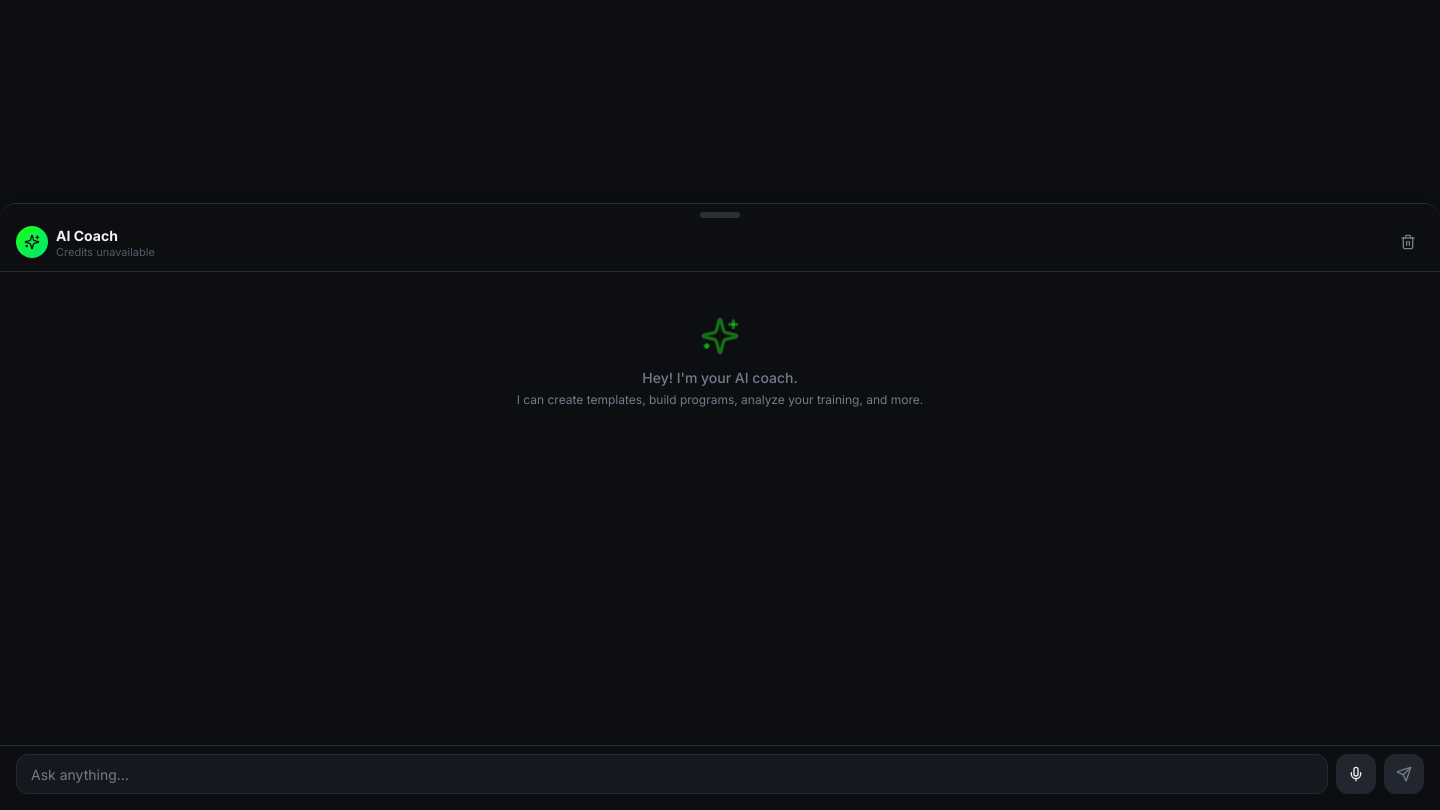
it: AI coach voice input › lets typing take over from talking
Click the button named "Start voice input".
click(1356, 774)  # box [1336,754,1376,794]
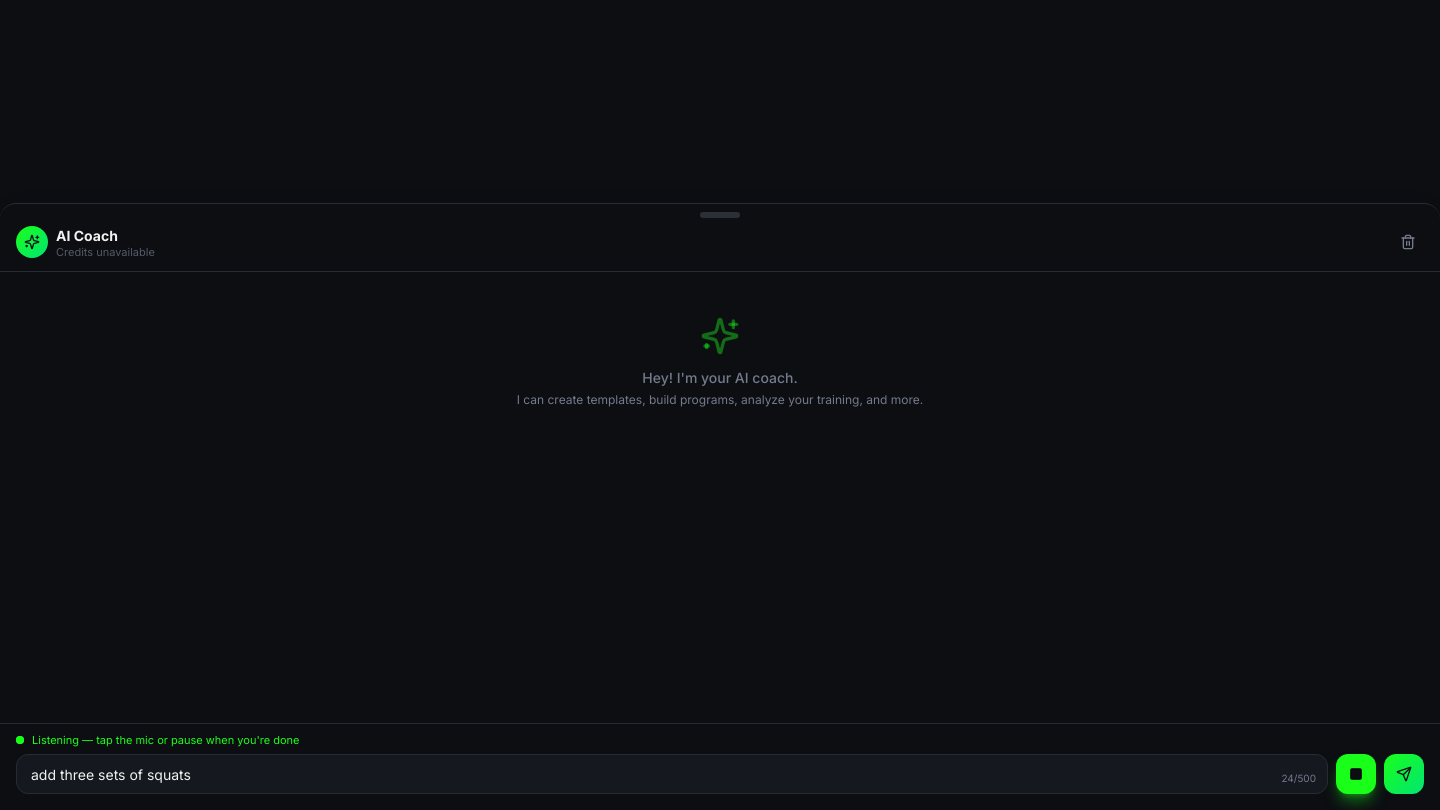
Replace the text in the text box with "add four sets of squats" at [672, 774], box [16,754,1328,794]
Wait 11000 ms
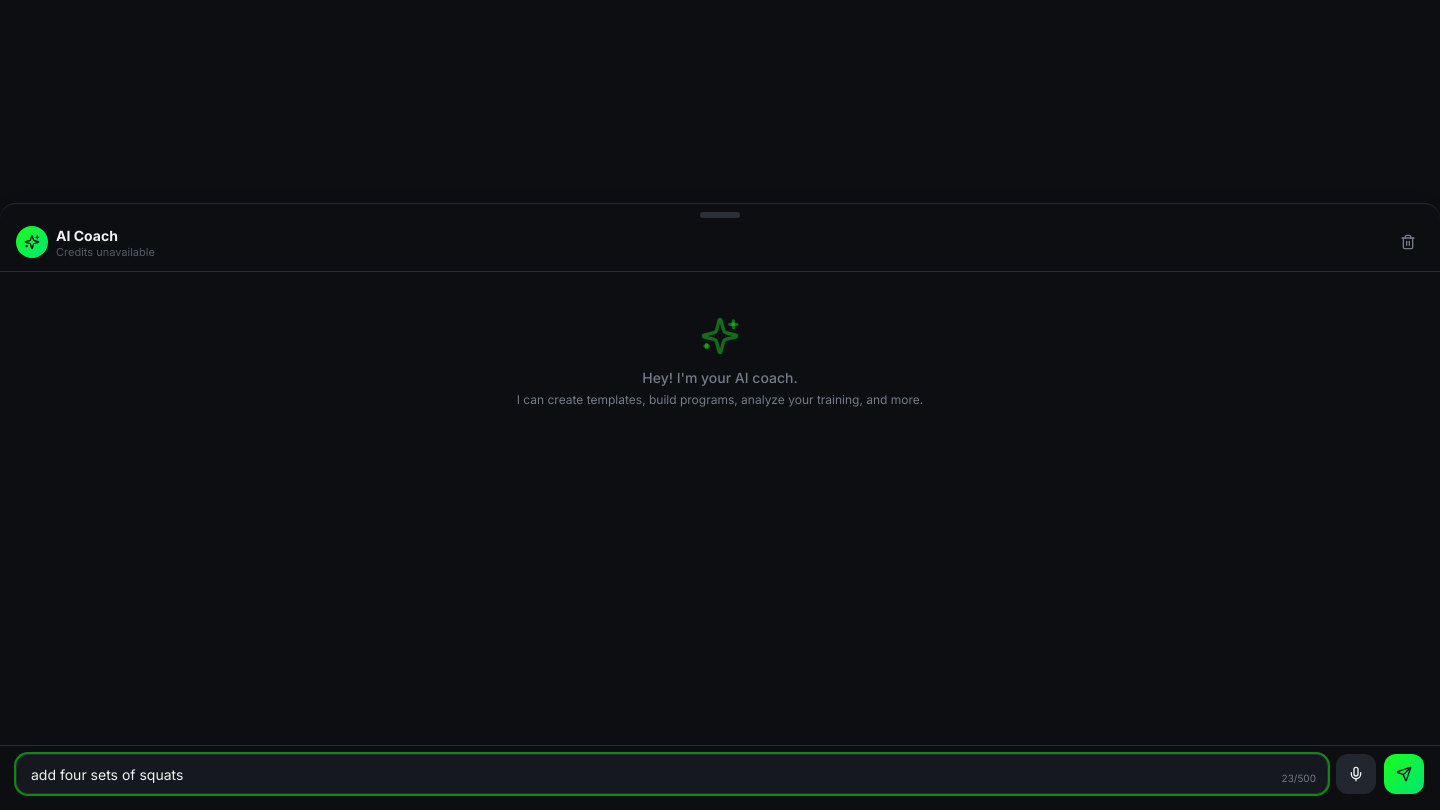
Expected: the button named "Start voice input" is shown, [1336,754,1376,794]
